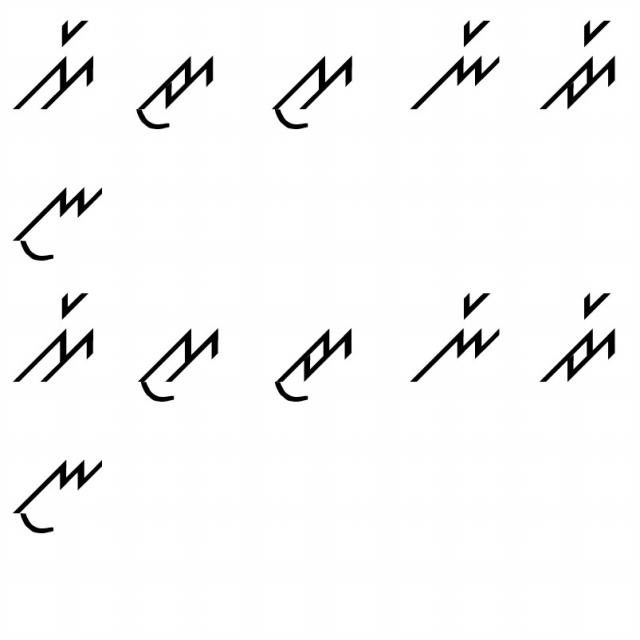jar: (536, 284, 618, 393), (536, 18, 622, 114)
jaw: (129, 47, 226, 139), (270, 311, 356, 407)
nyar: (405, 278, 505, 388), (408, 10, 504, 116)
nyaw: (13, 443, 114, 537), (7, 175, 105, 263)
sar: (9, 16, 103, 116), (13, 285, 100, 392)
saw: (132, 307, 226, 407), (268, 47, 362, 137)
